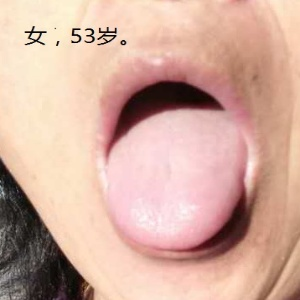st: (105, 151, 248, 252)
